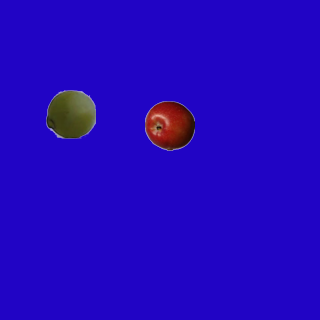Apple Braeburn: (144, 100, 194, 150)
Grape White 4: (45, 88, 95, 138)
